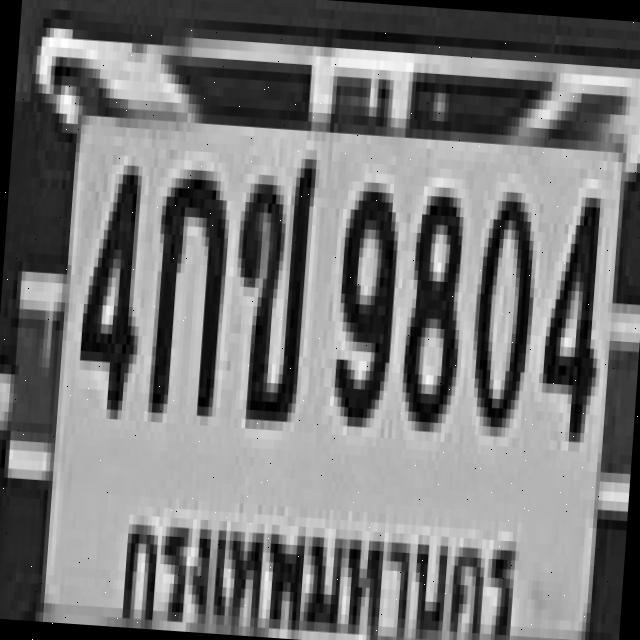0: (464, 180, 537, 428)
10GorGai: (143, 158, 230, 416)
19ChorChang: (226, 145, 314, 422)
4: (72, 153, 142, 410), (536, 185, 604, 434)
8: (396, 175, 465, 424)
9: (329, 171, 398, 419)
Bangkok: (110, 480, 525, 640)
